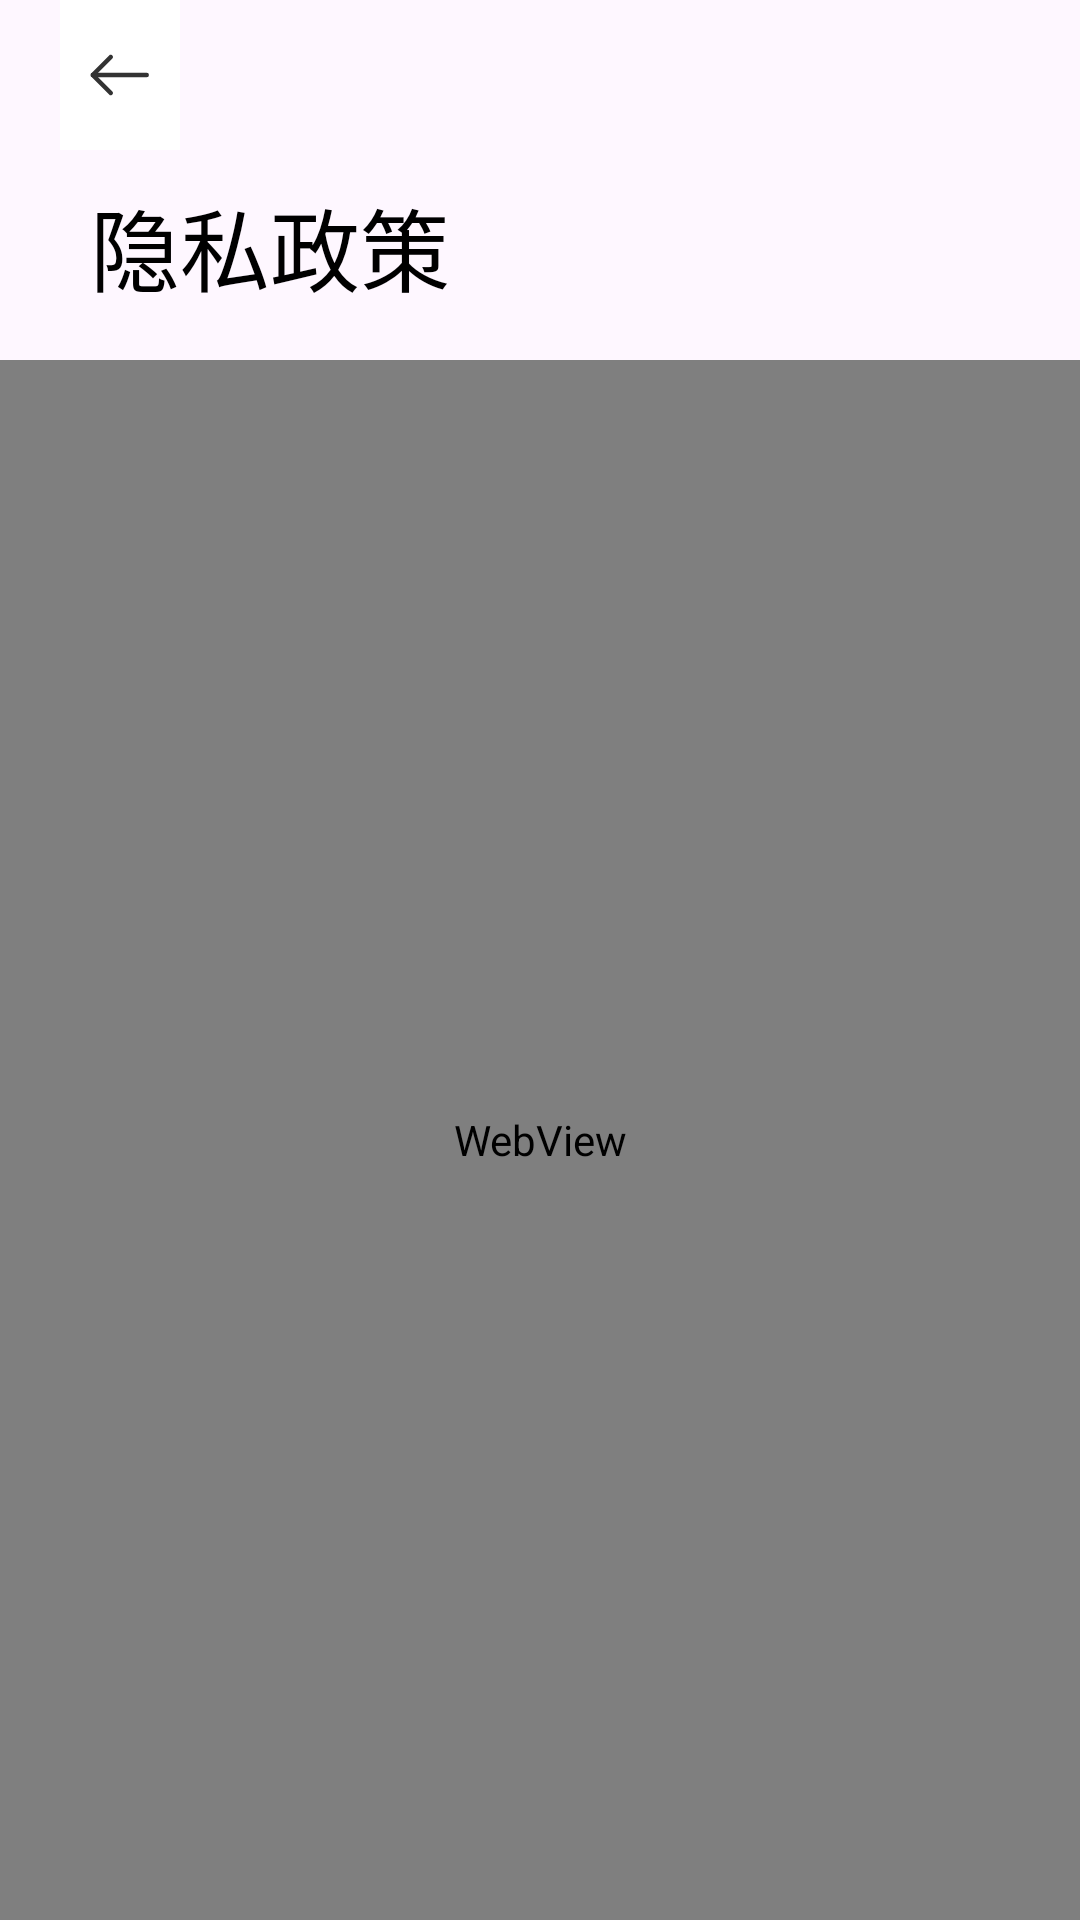

Icons on this 1080 x 1920 Android screen, each with its box as (x1, y1, x2, y2):
back: (90, 54, 149, 96)
